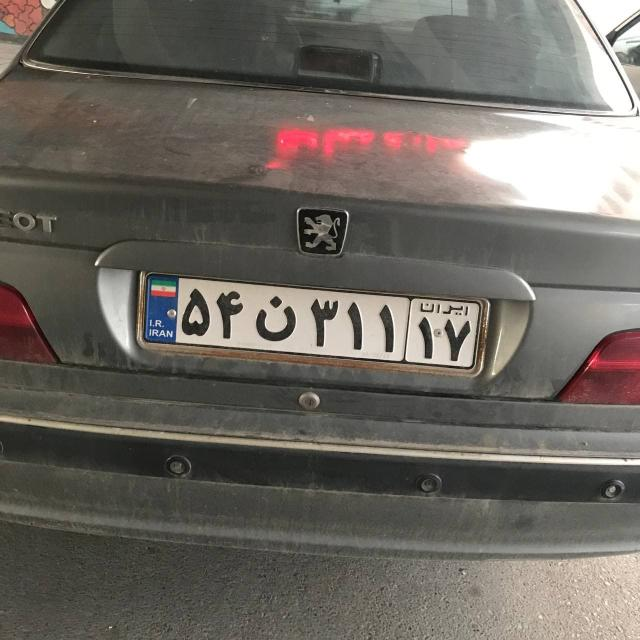Plates: (139, 272, 481, 373)
